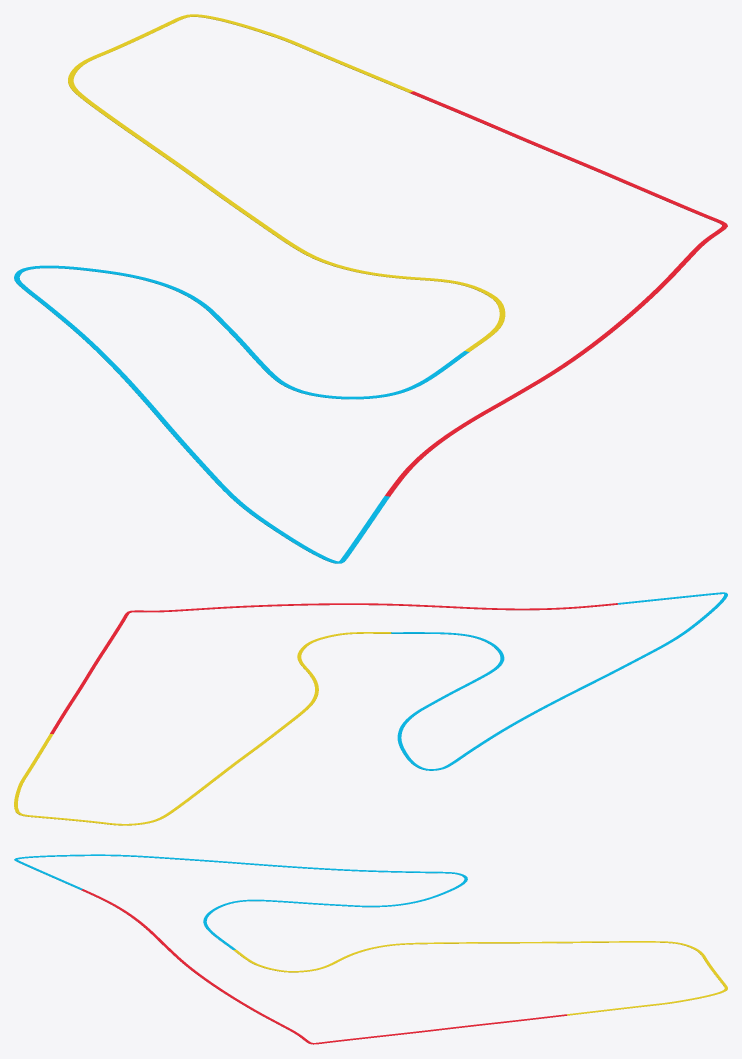
File: RedBullRingSectors.glb
3 views of the same model, one above another, from view 1: azimuth 30°, elevation 25°; view 2: azimuth 150°, elevation 25°; view 3: azimuth 270°, elevation 25° (orthographic). The views are drawn at different scales.
Visible parts, largest first — view 1: SectorStrip_2, SectorStrip_3, SectorStrip_1; view 2: SectorStrip_2, SectorStrip_3, SectorStrip_1; view 3: SectorStrip_2, SectorStrip_3, SectorStrip_1.
Boxes of the visible parts, <box> form: SectorStrip_2: <box>14,265,469,563</box>; SectorStrip_3: <box>68,14,505,351</box>; SectorStrip_1: <box>385,91,727,496</box>; SectorStrip_2: <box>391,592,727,770</box>; SectorStrip_3: <box>14,632,391,825</box>; SectorStrip_1: <box>50,603,617,733</box>; SectorStrip_2: <box>14,854,467,949</box>; SectorStrip_3: <box>233,941,727,1015</box>; SectorStrip_1: <box>81,889,567,1044</box>.
Size of the model in its own units: 15.84 by 0.006 by 25.17.
